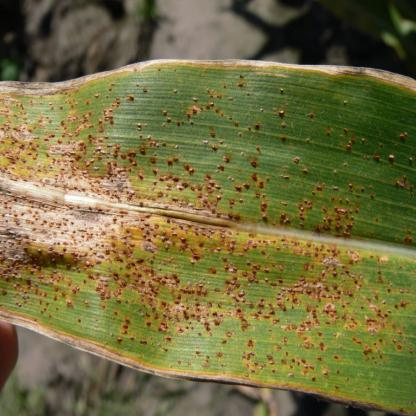corn rust leaf: (1, 57, 416, 407)
